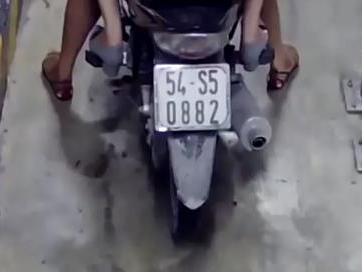num_plate: (152, 63, 232, 130)
